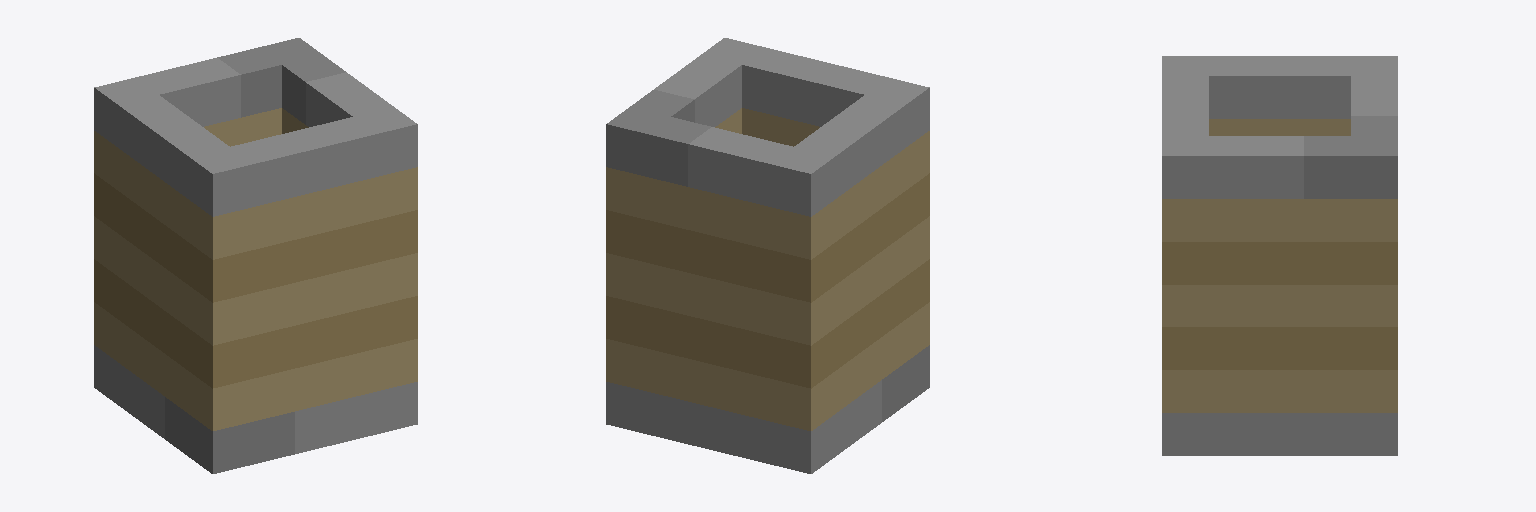
3 views of the same model, side by side, from view 1: azimuth 30°, elevation 25°; view 2: azimuth 150°, elevation 25°; view 3: azimuth 270°, elevation 25° (orthographic).
Visible parts, largest first — view 1: Box_24; view 2: Box_24; view 3: Box_24.
Boxes of the visible parts, <box> form: Box_24: <box>94,38,417,473</box>; Box_24: <box>606,38,929,473</box>; Box_24: <box>1162,56,1397,455</box>.
Size of the model in its own units: 5 by 7 by 5.
Materials: 1 (1 with a texture image).